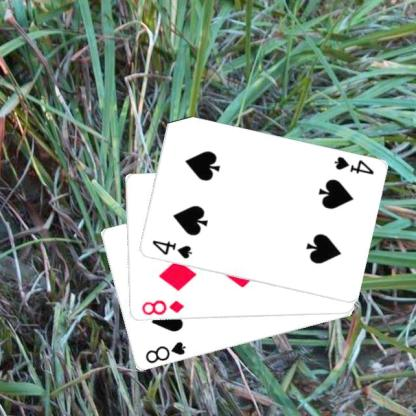4S: (331, 153, 375, 177), (149, 238, 193, 260)
8D: (139, 297, 185, 317)
8S: (142, 339, 187, 365)
